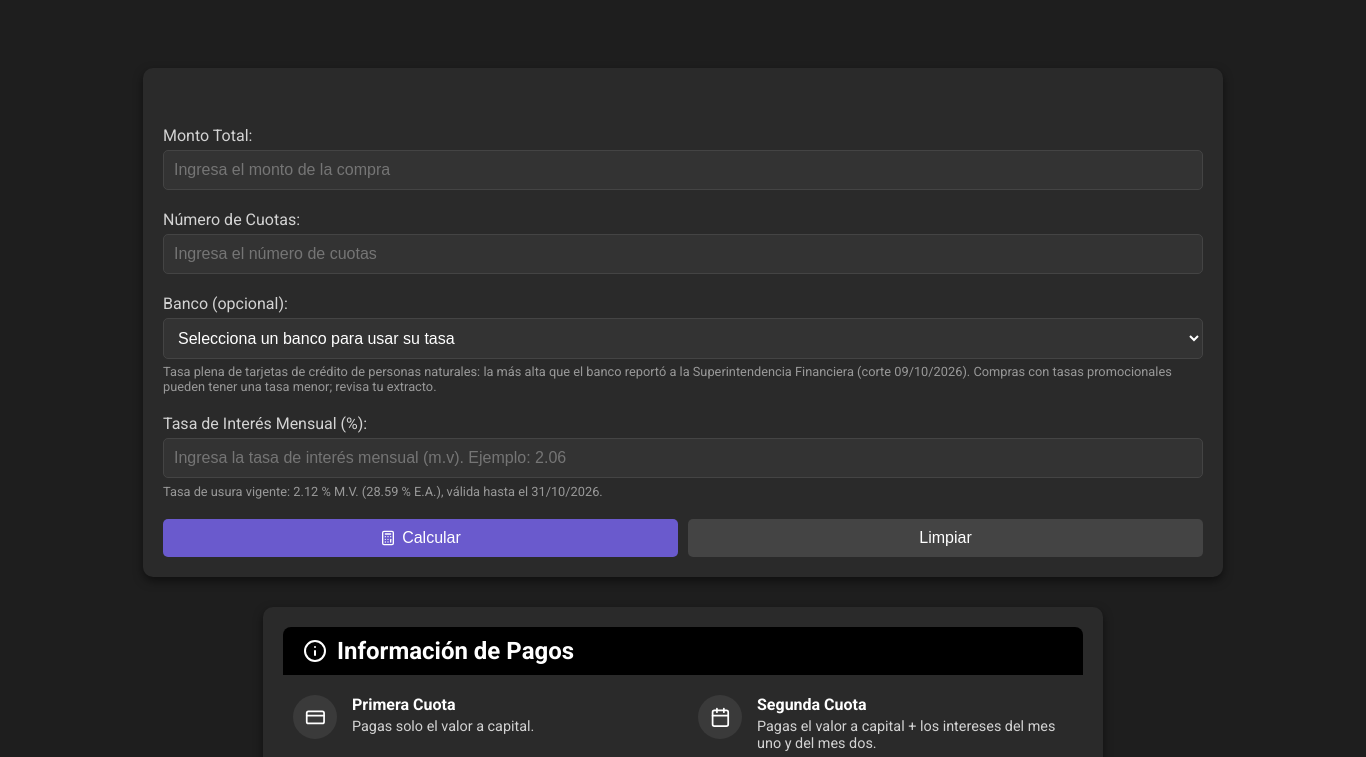
Test: muestra un error con 0 cuotas
Expected: the text "Tasa de usura vigente" is shown, [163, 484, 603, 499]
Type "600000" into the field labelled "Monto Total:" at (683, 170), box [163, 150, 1203, 190]
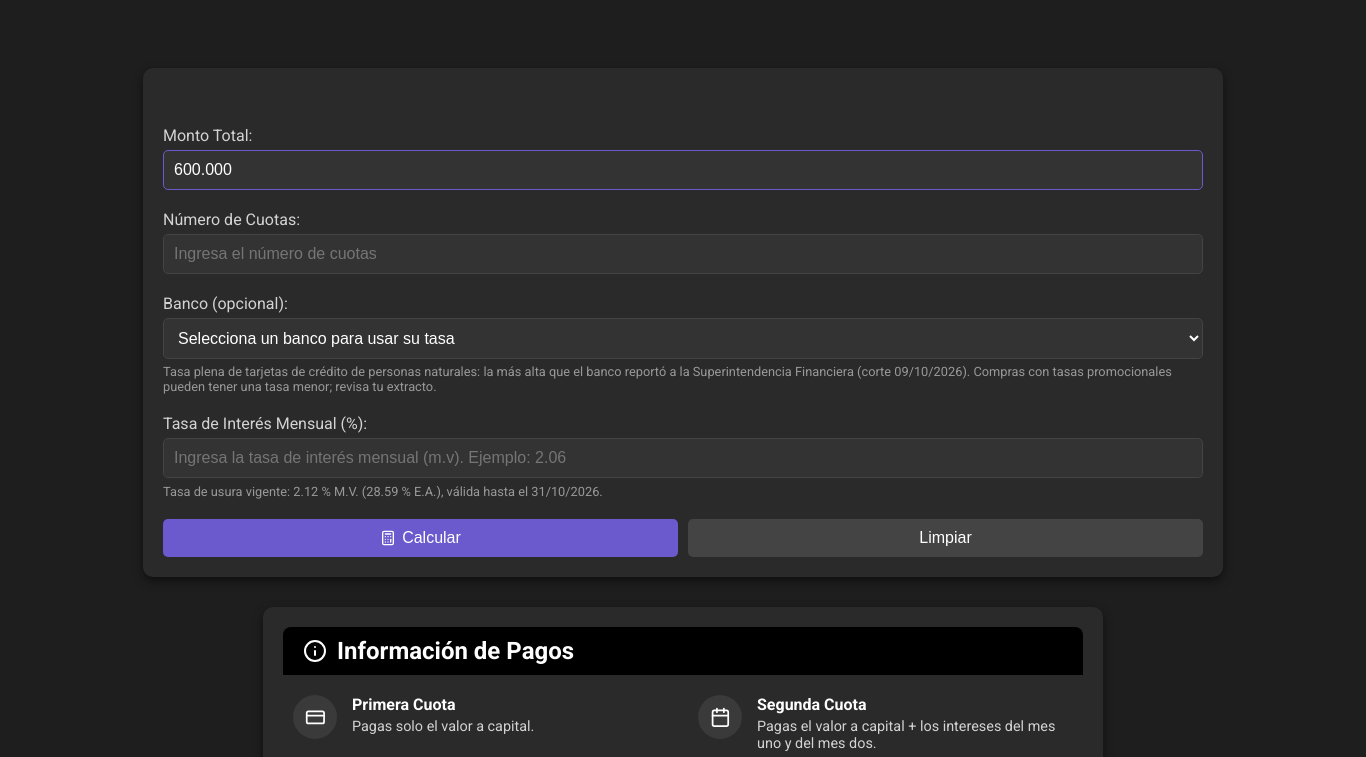
Type "0" into the number field labelled "Número de Cuotas:" at (683, 254), box [163, 234, 1203, 274]
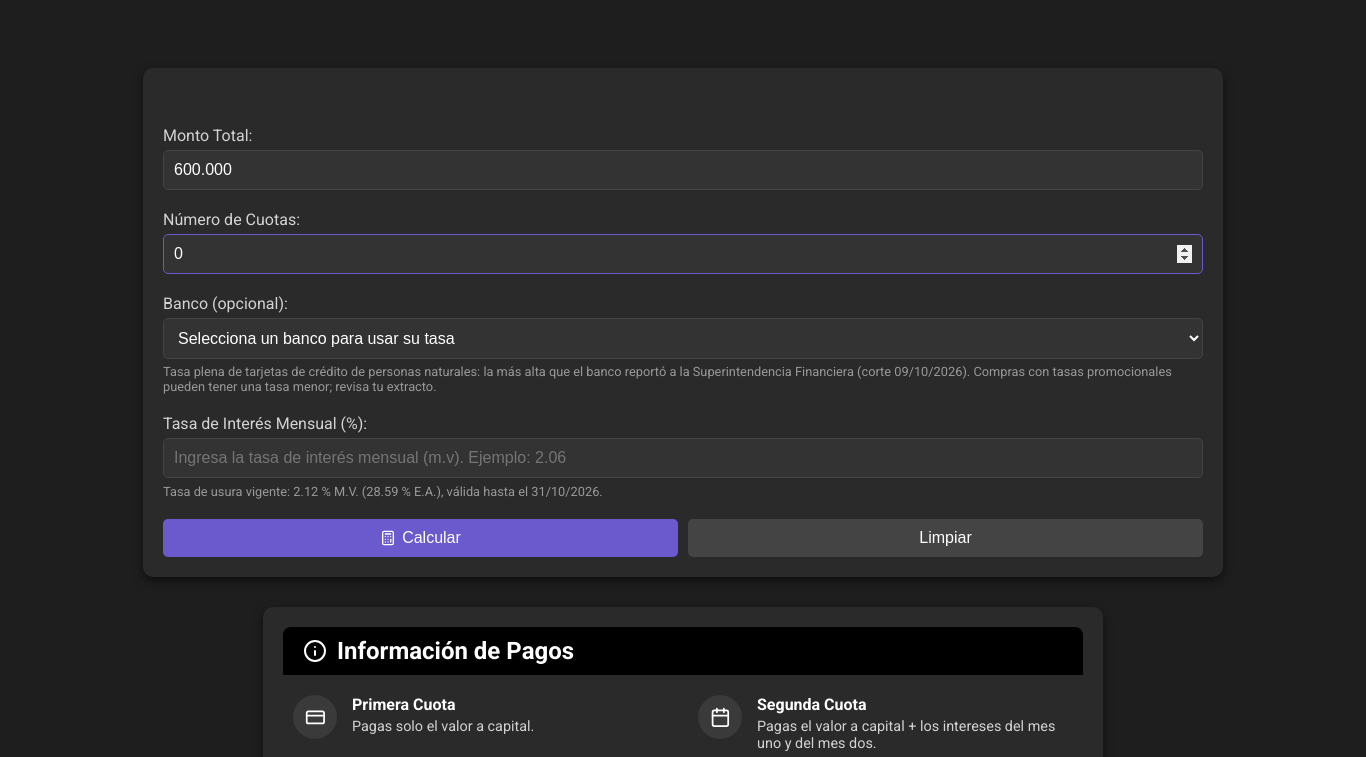
Type "2" into the number field labelled "Tasa de Interés Mensual (%):" at (683, 458), box [163, 438, 1203, 478]
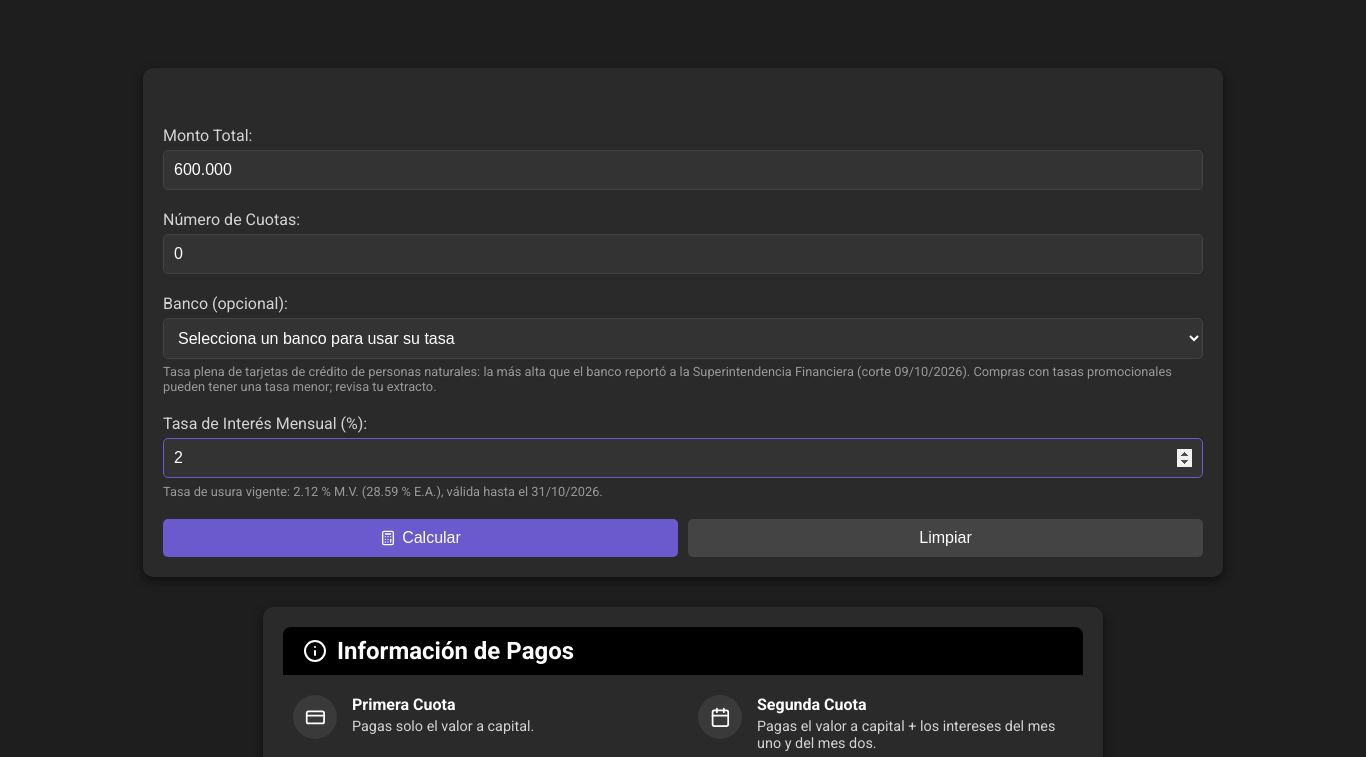
Click the button "Calcular" at (420, 538), box [163, 519, 678, 557]
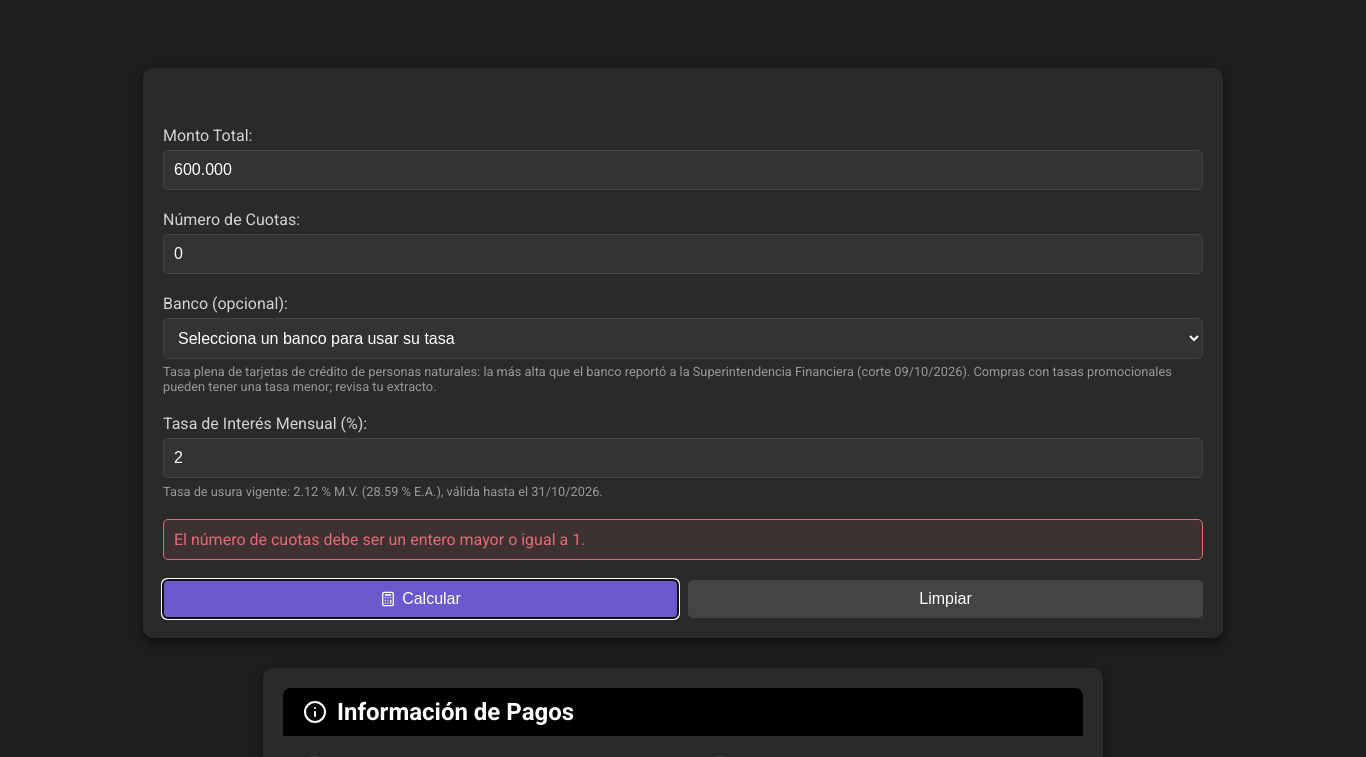
Now the message shows "número de cuotas", box [174, 530, 585, 549]
